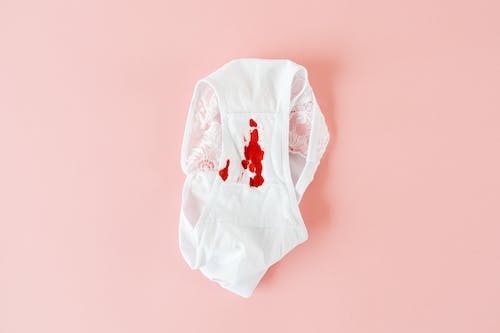blood: (216, 116, 266, 191)
